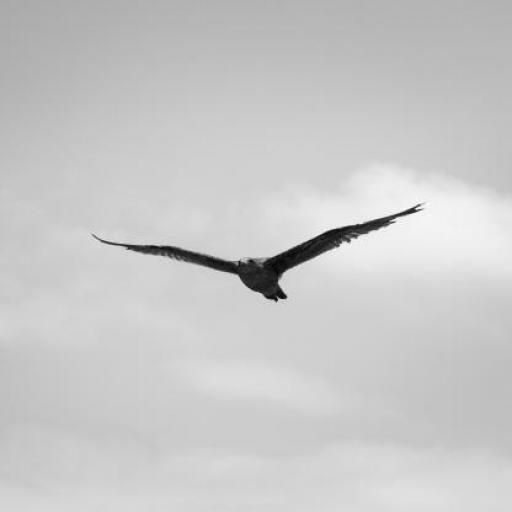bird: (88, 203, 423, 302)
